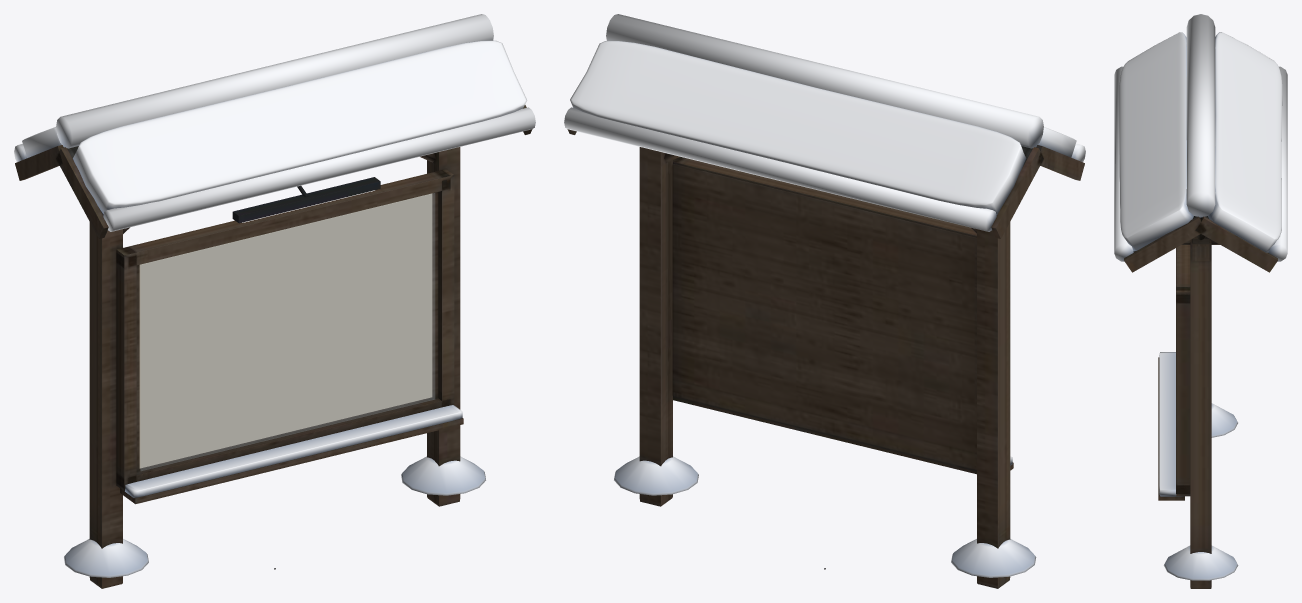
The model's file is trail_map_board.glb.
3 renders of one model, left to right at view 1: azimuth 30°, elevation 25°; view 2: azimuth 150°, elevation 25°; view 3: azimuth 270°, elevation 25°, orthographic. The views are drawn at different scales.
Visible parts, largest first — view 1: trail_map_board_snow, trail_map_board_glass, trail_map_board_paint, trail_map_board; view 2: trail_map_board, trail_map_board_snow; view 3: trail_map_board_snow, trail_map_board.
Part boxes in pixels (x1=…): trail_map_board_snow: x1=14, y1=14, x2=535, y2=577; trail_map_board_glass: x1=140, y1=193, x2=434, y2=470; trail_map_board_paint: x1=139, y1=193, x2=432, y2=468; trail_map_board: x1=15, y1=105, x2=532, y2=588; trail_map_board: x1=567, y1=129, x2=1084, y2=588; trail_map_board_snow: x1=564, y1=14, x2=1085, y2=577; trail_map_board_snow: x1=1114, y1=14, x2=1287, y2=580; trail_map_board: x1=1124, y1=216, x2=1277, y2=588.
Size of the model in its own units: 4.86 by 5.42 by 1.96.
5 materials, 1 textured.
